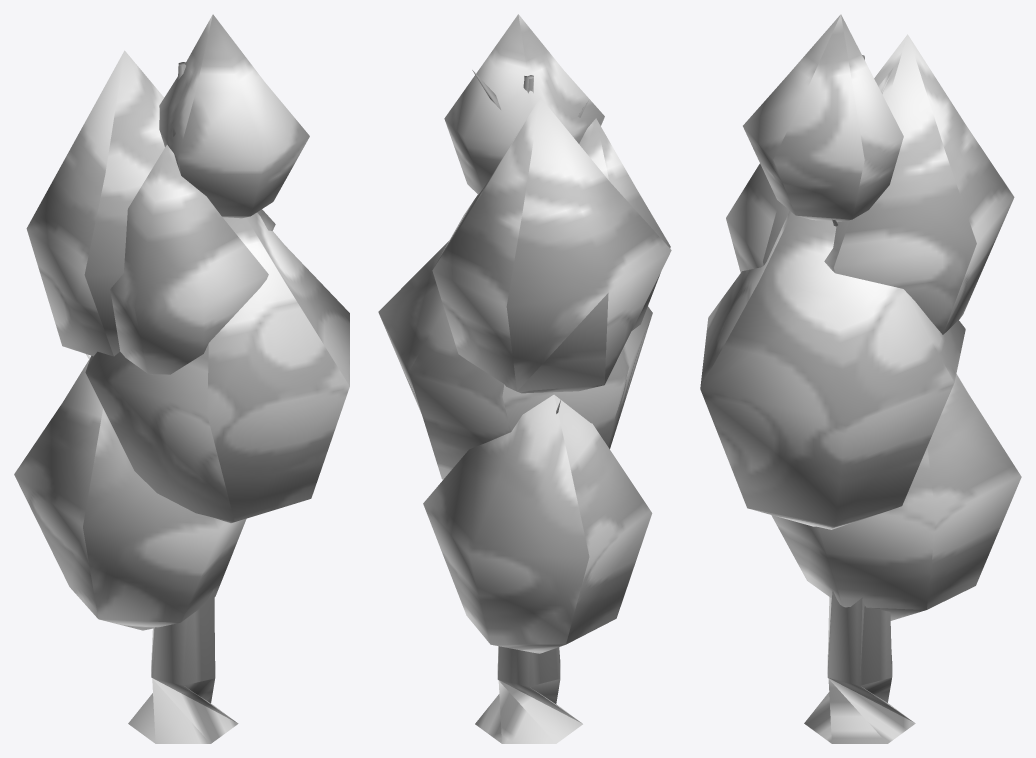
File: tree_poplar_2.obj
3 views of the same model, side by side, from view 1: azimuth 30°, elevation 25°; view 2: azimuth 150°, elevation 25°; view 3: azimuth 270°, elevation 25° (orthographic). The views are drawn at different scales.
Visible parts, largest first — view 1: source_component_011, source_component_010, source_component_012, source_component_014, source_component_013, source_component_000; view 2: source_component_012, source_component_010, source_component_011, source_component_013, source_component_000, source_component_014; view 3: source_component_011, source_component_012, source_component_010, source_component_013, source_component_000, source_component_014.
Part boxes in pixels (x1,y1,x2,y2): source_component_011: (85, 212, 349, 523); source_component_010: (14, 358, 246, 630); source_component_012: (26, 50, 275, 356); source_component_014: (110, 145, 268, 375); source_component_013: (159, 14, 309, 218); source_component_000: (128, 62, 238, 743); source_component_012: (432, 97, 671, 393); source_component_010: (423, 394, 652, 653); source_component_011: (378, 241, 652, 479); source_component_013: (444, 14, 604, 194); source_component_000: (475, 75, 582, 743); source_component_014: (579, 118, 670, 330); source_component_011: (700, 211, 965, 529); source_component_012: (824, 34, 1014, 334); source_component_010: (771, 374, 1021, 620); source_component_013: (743, 14, 903, 221); source_component_000: (804, 55, 915, 743); source_component_014: (726, 164, 789, 272).
Size of the model in its own units: 0.442 by 1.07 by 0.4313.
